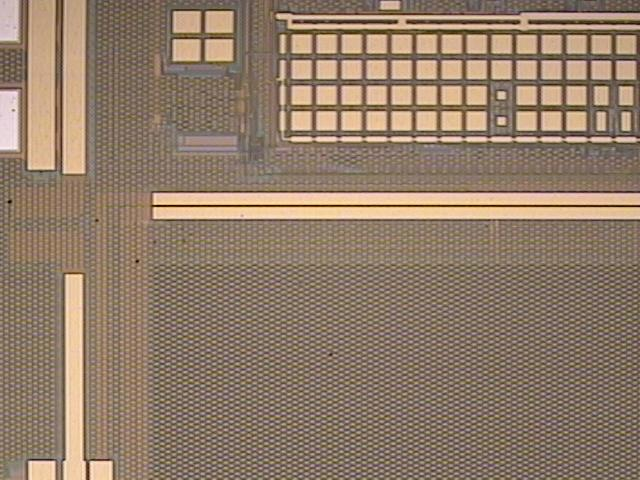PO CONTAMINATION: (6, 103, 340, 365)
